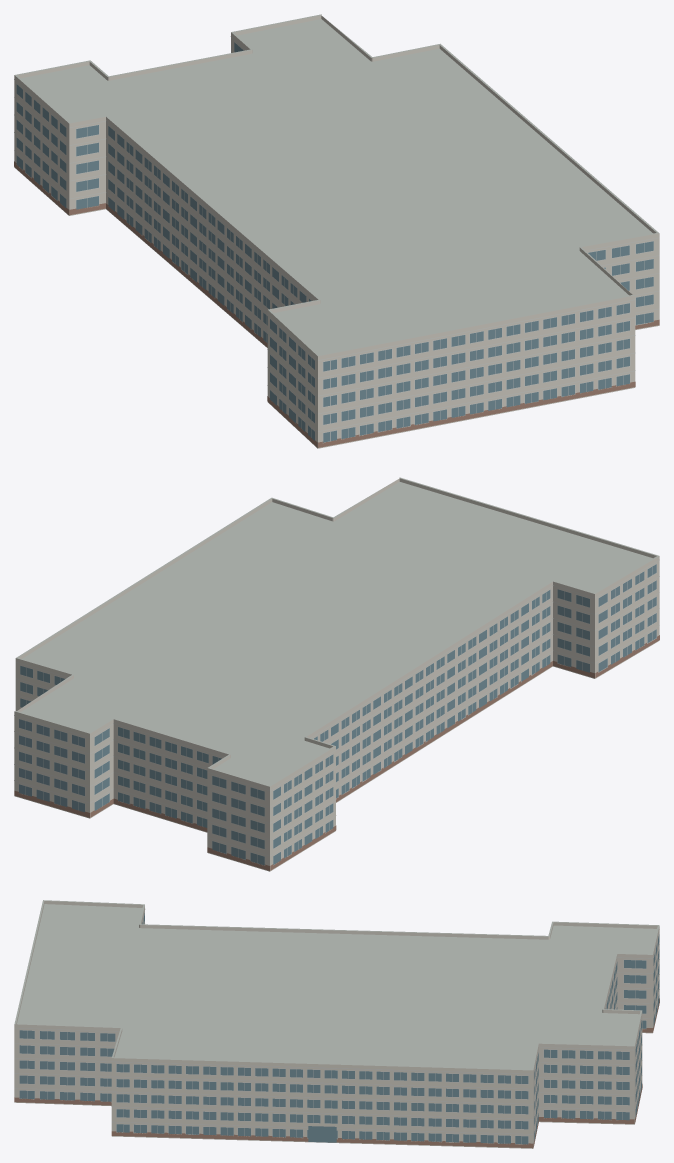
Rendered from public-3b787ce5-5bc9-434d-9dac-5230b6cbd928.glb.
3 renders of one model, top to bottom at view 1: azimuth 30°, elevation 25°; view 2: azimuth 150°, elevation 25°; view 3: azimuth 270°, elevation 25°, orthographic. The views are drawn at different scales.
Visible parts, largest first — view 1: public-3b787ce5-5bc9-434d-9dac-5230b6cbd928; view 2: public-3b787ce5-5bc9-434d-9dac-5230b6cbd928; view 3: public-3b787ce5-5bc9-434d-9dac-5230b6cbd928.
Boxes of the visible parts, x1,y1,x2,y2 form: public-3b787ce5-5bc9-434d-9dac-5230b6cbd928: (14, 14, 659, 448); public-3b787ce5-5bc9-434d-9dac-5230b6cbd928: (14, 477, 659, 871); public-3b787ce5-5bc9-434d-9dac-5230b6cbd928: (14, 900, 659, 1148).
Bounding box in the file's own units: 71.21 × 15.25 × 114.
